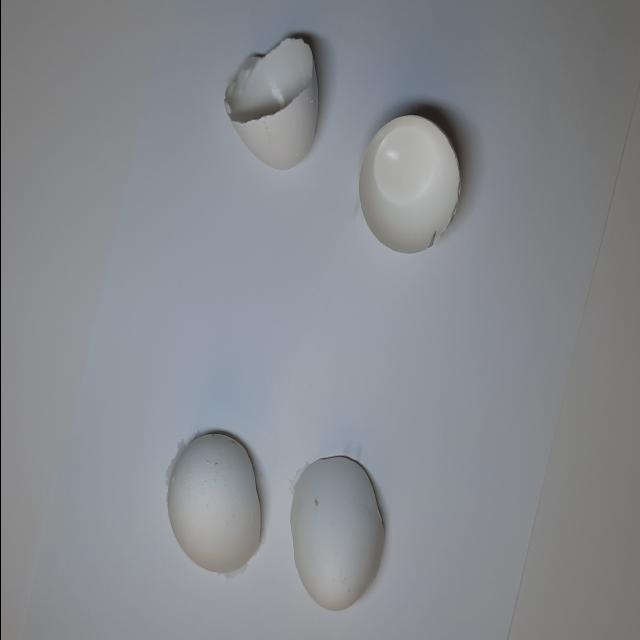egg shell: (341, 89, 478, 277), (288, 428, 406, 630), (148, 418, 272, 599), (216, 15, 330, 191)
